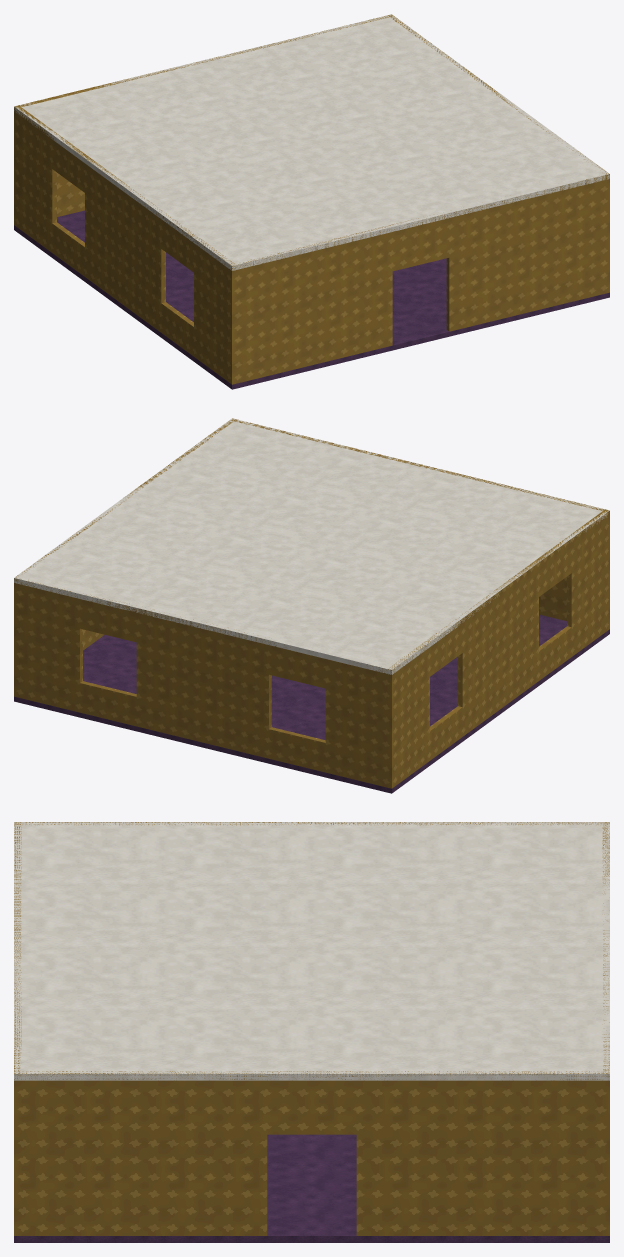
Rendered from room-study.obj.
3 views of the same model, one above another, from view 1: azimuth 30°, elevation 25°; view 2: azimuth 150°, elevation 25°; view 3: azimuth 270°, elevation 25° (orthographic). The views are drawn at different scales.
Parts seen in each view (by area): view 1: ceiling, wall, floor; view 2: ceiling, wall, floor; view 3: ceiling, wall, floor.
Part boxes in pixels (x1,y1,x2,y2): ceiling: [14, 14, 609, 270]; wall: [14, 14, 609, 384]; floor: [14, 210, 609, 389]; ceiling: [14, 418, 609, 674]; wall: [14, 418, 609, 788]; floor: [14, 614, 609, 793]; ceiling: [14, 822, 609, 1080]; wall: [14, 822, 609, 1235]; floor: [14, 1134, 609, 1242].
Bounding box in the file's own units: 16 × 5 × 16.
Materials: 3 (3 with a texture image).
